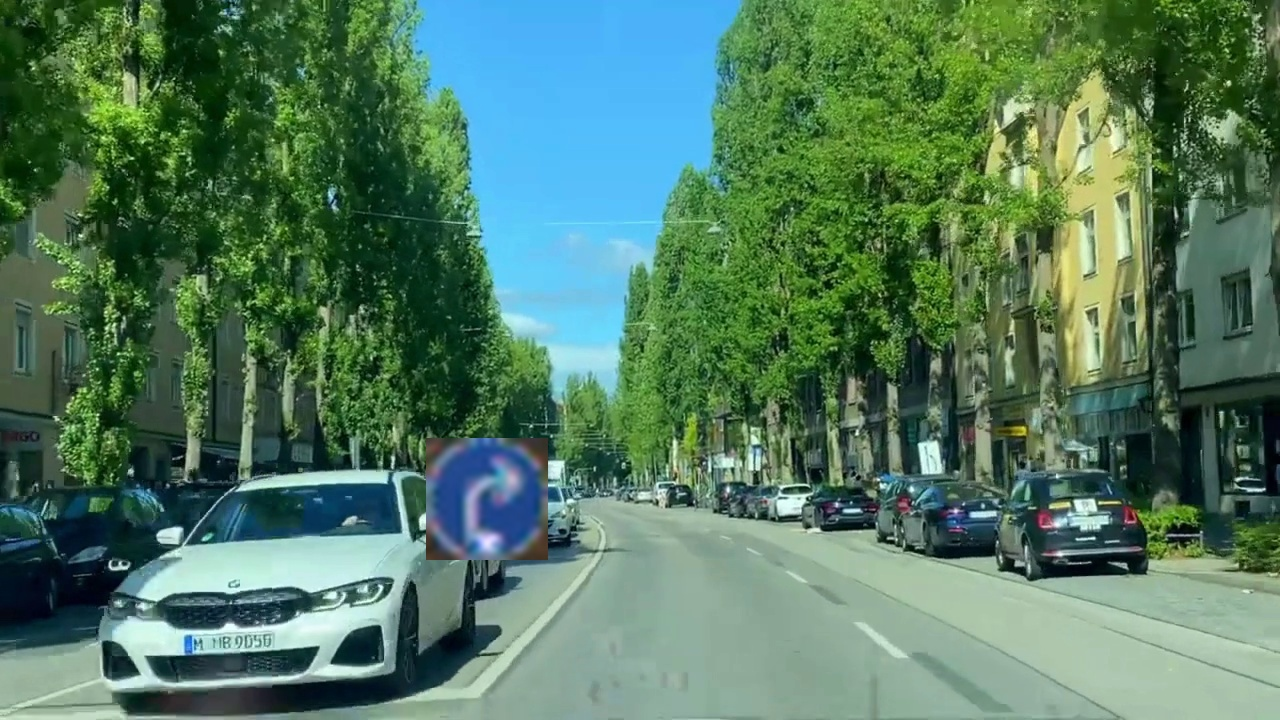Turn right: (426, 438, 548, 560)
